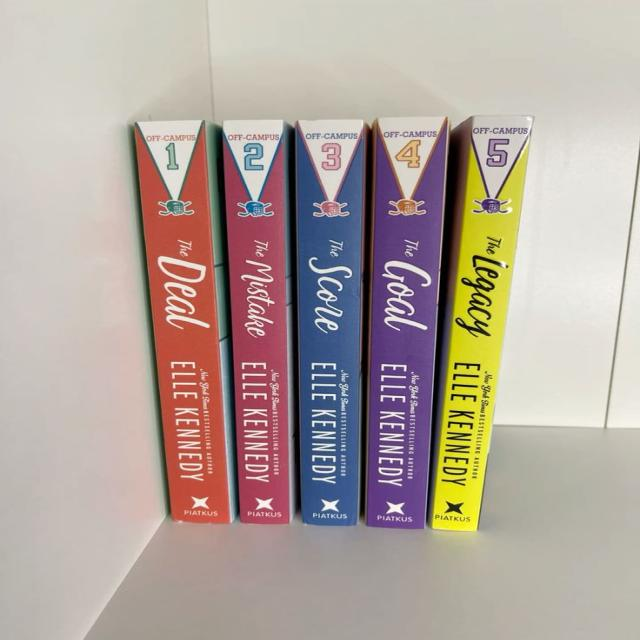book: (428, 116, 532, 531), (134, 120, 233, 523), (365, 117, 449, 528), (295, 120, 367, 525), (223, 120, 293, 523)
